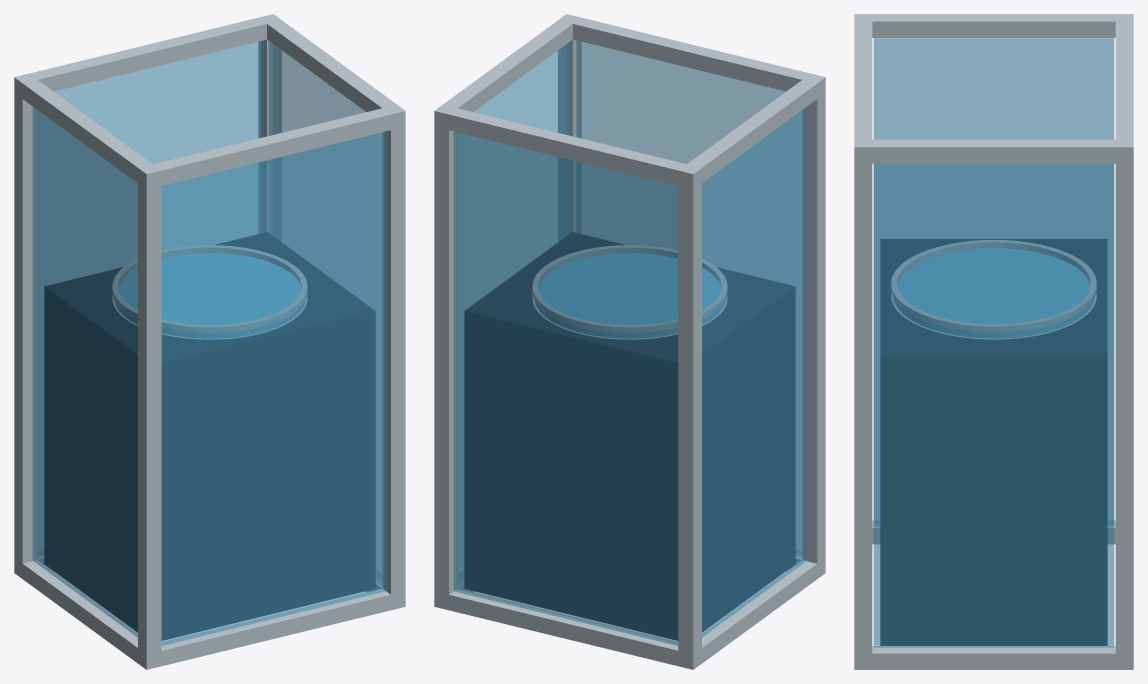
Rendered from 11_L76_InterconnectWaferCassette.fbx.
3 views of the same model, side by side, from view 1: azimuth 30°, elevation 25°; view 2: azimuth 150°, elevation 25°; view 3: azimuth 270°, elevation 25° (orthographic). The views are drawn at different scales.
Visible parts, largest first — view 1: InterconnectWaferCassette; view 2: InterconnectWaferCassette; view 3: InterconnectWaferCassette.
Part boxes in pixels (box(x1,y1,x2,y2)): InterconnectWaferCassette: box(14, 14, 405, 669); InterconnectWaferCassette: box(434, 14, 825, 669); InterconnectWaferCassette: box(854, 14, 1133, 669).
Bounding box in the file's own units: 122 × 223 × 108.
